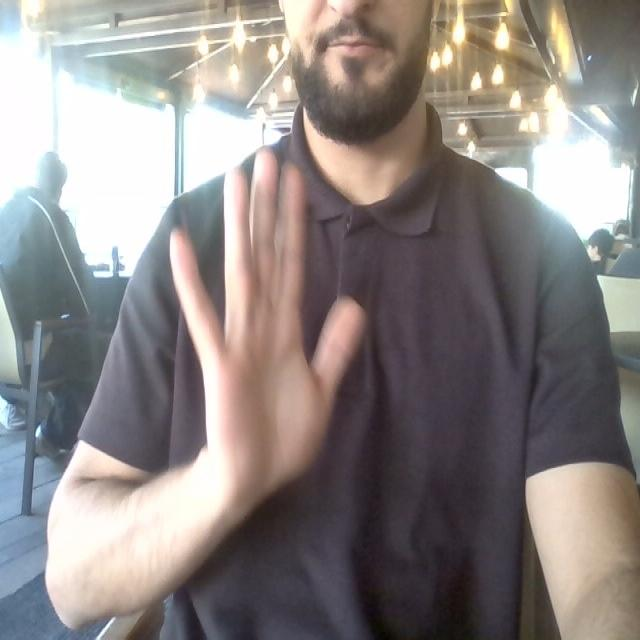Hand: (170, 150, 364, 507)
